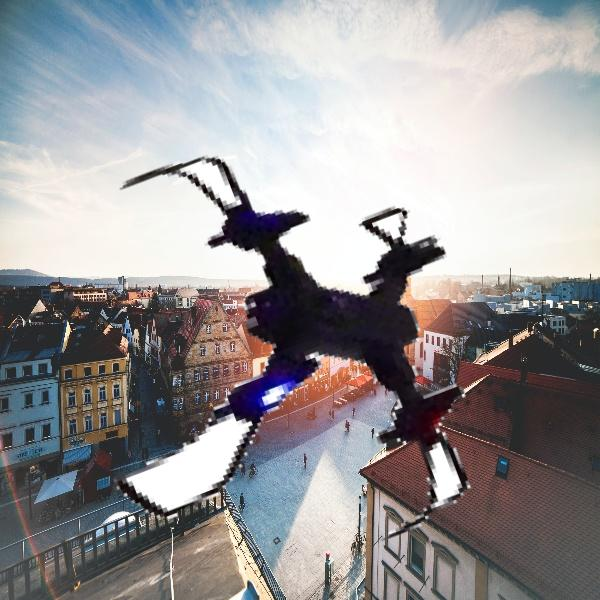drone: (32, 126, 490, 584)
